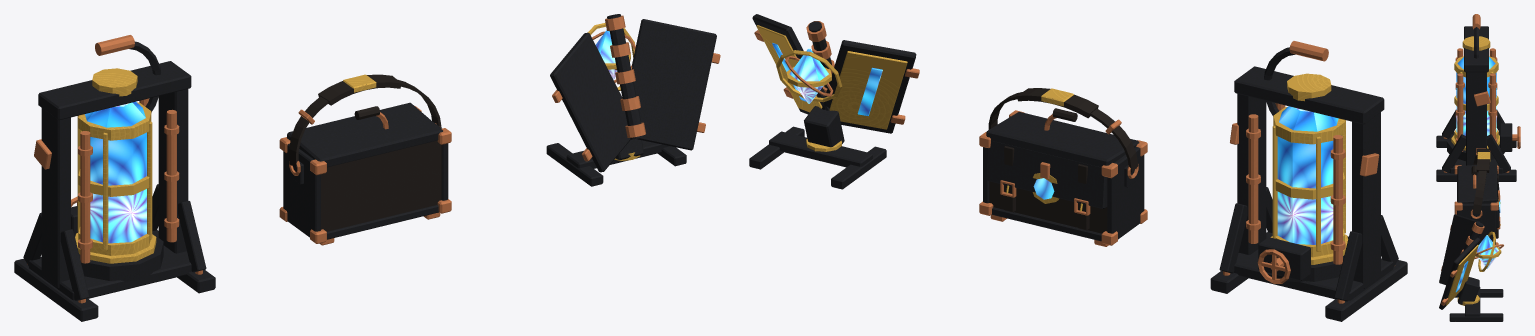
The model's file is kosher-story-props-v1.glb.
The picture shows the model from 3 angles, left to right: view 1: azimuth 30°, elevation 25°; view 2: azimuth 150°, elevation 25°; view 3: azimuth 270°, elevation 25°; orthographic projection. The views are drawn at different scales.
Parts seen in each view (by area): view 1: KeeperPowerCellCradle_Steel, ArchivistSpectralFolio_Steel, CourierMemoryParcel_StrapSlate, CourierMemoryParcel_Steel, KeeperPowerCellCradle_VorathGold, KeeperPowerCellCradle_SpectralCrystal, KeeperPowerCellCradle_Copper, ArchivistSpectralFolio_Copper, CourierMemoryParcel_Copper; view 2: KeeperPowerCellCradle_Steel, CourierMemoryParcel_Steel, ArchivistSpectralFolio_Steel, ArchivistSpectralFolio_VorathGold, KeeperPowerCellCradle_SpectralCrystal, CourierMemoryParcel_StrapSlate, KeeperPowerCellCradle_Copper, KeeperPowerCellCradle_VorathGold, CourierMemoryParcel_Copper, ArchivistSpectralFolio_SpectralCrystal, ArchivistSpectralFolio_Copper, CourierMemoryParcel_VorathGold; view 3: KeeperPowerCellCradle_Steel, ArchivistSpectralFolio_Steel, CourierMemoryParcel_Steel, KeeperPowerCellCradle_Copper, ArchivistSpectralFolio_VorathGold, KeeperPowerCellCradle_VorathGold, CourierMemoryParcel_StrapSlate, KeeperPowerCellCradle_SpectralCrystal, ArchivistSpectralFolio_SpectralCrystal, CourierMemoryParcel_Copper, ArchivistSpectralFolio_Copper, CourierMemoryParcel_VorathGold.
Part boxes in pixels (x1,y1,x2,y2): KeeperPowerCellCradle_Steel: (14, 41, 215, 321); ArchivistSpectralFolio_Steel: (546, 14, 716, 186); CourierMemoryParcel_StrapSlate: (289, 74, 441, 231); CourierMemoryParcel_Steel: (283, 102, 448, 239); KeeperPowerCellCradle_VorathGold: (75, 68, 156, 263); KeeperPowerCellCradle_SpectralCrystal: (85, 101, 146, 243); KeeperPowerCellCradle_Copper: (27, 35, 202, 303); ArchivistSpectralFolio_Copper: (552, 15, 720, 161); CourierMemoryParcel_Copper: (279, 106, 451, 245); KeeperPowerCellCradle_Steel: (1210, 47, 1407, 321); CourierMemoryParcel_Steel: (983, 111, 1144, 241); ArchivistSpectralFolio_Steel: (749, 14, 916, 189); ArchivistSpectralFolio_VorathGold: (756, 25, 907, 151); KeeperPowerCellCradle_SpectralCrystal: (1277, 106, 1338, 244); CourierMemoryParcel_StrapSlate: (988, 88, 1138, 233); KeeperPowerCellCradle_Copper: (1223, 41, 1395, 303); KeeperPowerCellCradle_VorathGold: (1270, 73, 1348, 264); CourierMemoryParcel_Copper: (979, 110, 1147, 246); ArchivistSpectralFolio_SpectralCrystal: (772, 43, 882, 115); ArchivistSpectralFolio_Copper: (754, 21, 919, 124); CourierMemoryParcel_VorathGold: (1006, 88, 1082, 211); KeeperPowerCellCradle_Steel: (1436, 26, 1516, 181); ArchivistSpectralFolio_Steel: (1439, 214, 1503, 321); CourierMemoryParcel_Steel: (1457, 163, 1499, 244); KeeperPowerCellCradle_Copper: (1443, 14, 1520, 172); ArchivistSpectralFolio_VorathGold: (1445, 231, 1501, 305); KeeperPowerCellCradle_VorathGold: (1451, 36, 1499, 150); CourierMemoryParcel_StrapSlate: (1471, 148, 1498, 238); KeeperPowerCellCradle_SpectralCrystal: (1456, 57, 1496, 135); ArchivistSpectralFolio_SpectralCrystal: (1455, 235, 1498, 292); CourierMemoryParcel_Copper: (1454, 148, 1500, 245); ArchivistSpectralFolio_Copper: (1441, 222, 1503, 305); CourierMemoryParcel_VorathGold: (1477, 152, 1500, 225).
Bounding box in the file's own units: 2.35 × 0.83 × 0.4406.
5 materials, 5 textured.
